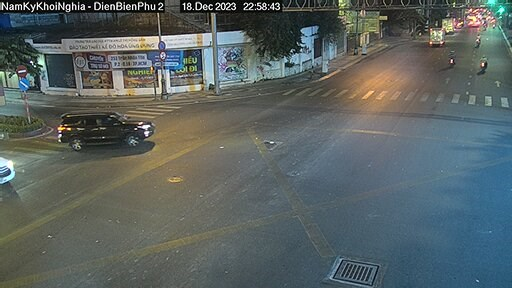car: (50, 105, 153, 151)
truck: (427, 25, 447, 50)
